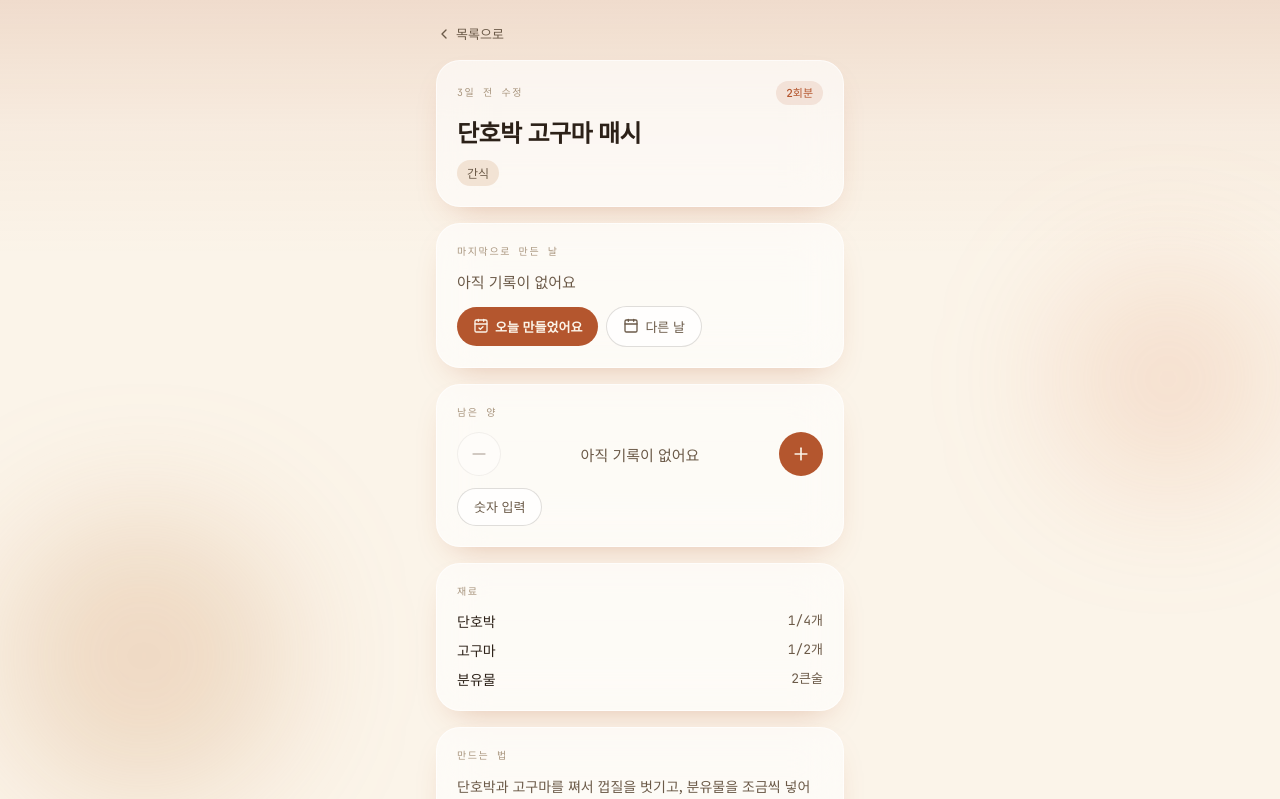
Test case: RecipeDetailScreen › starts at 1 with + when nothing is recorded, and − is disabled
Expected: the element with test id "leftover" reads "아직 기록이 없어요", [581,444,699,465]
Expected: the button named "하나 줄이기" is disabled, [457,432,501,476]
Click the button named "하나 늘리기".
click(801, 454)  # box [779,432,823,476]
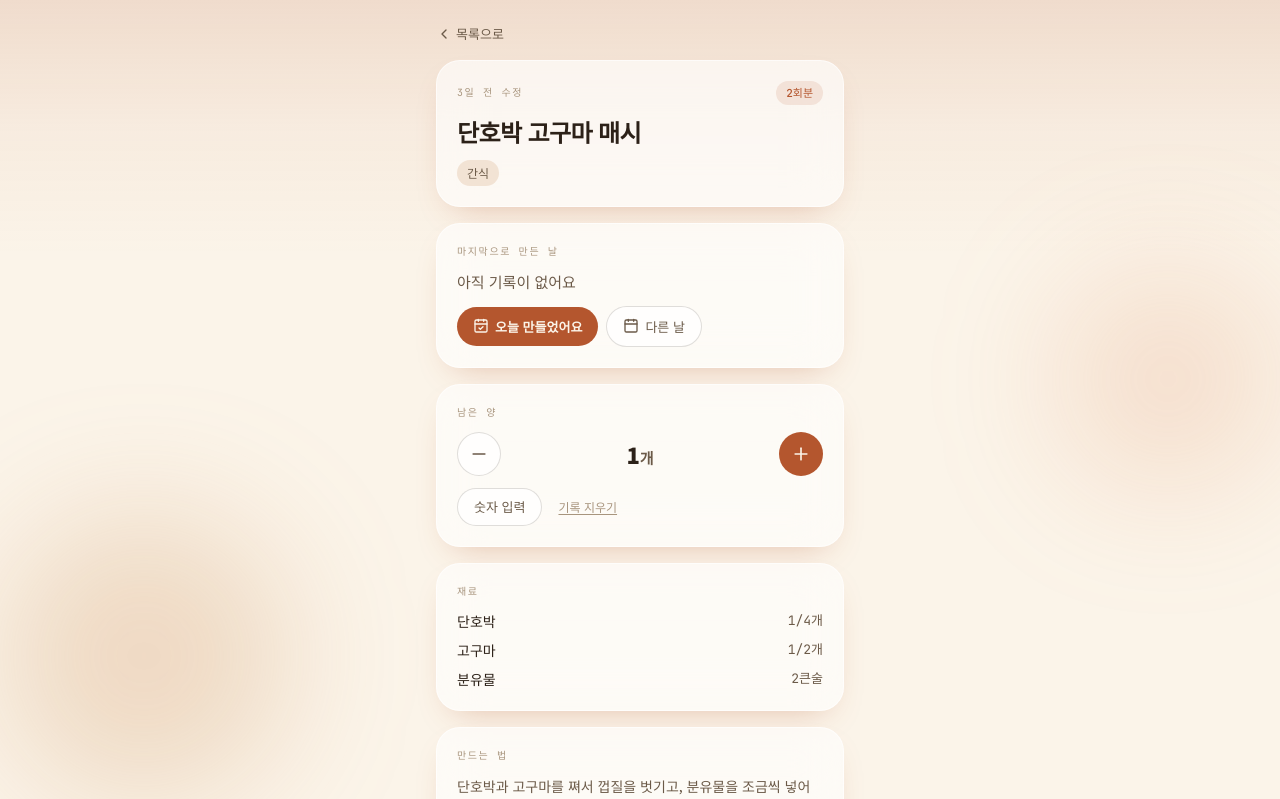
Expected: the button named "하나 줄이기" is enabled, [457,432,501,476]
Now the element with test id "leftover" reads "1개", box [626,438,654,470]
